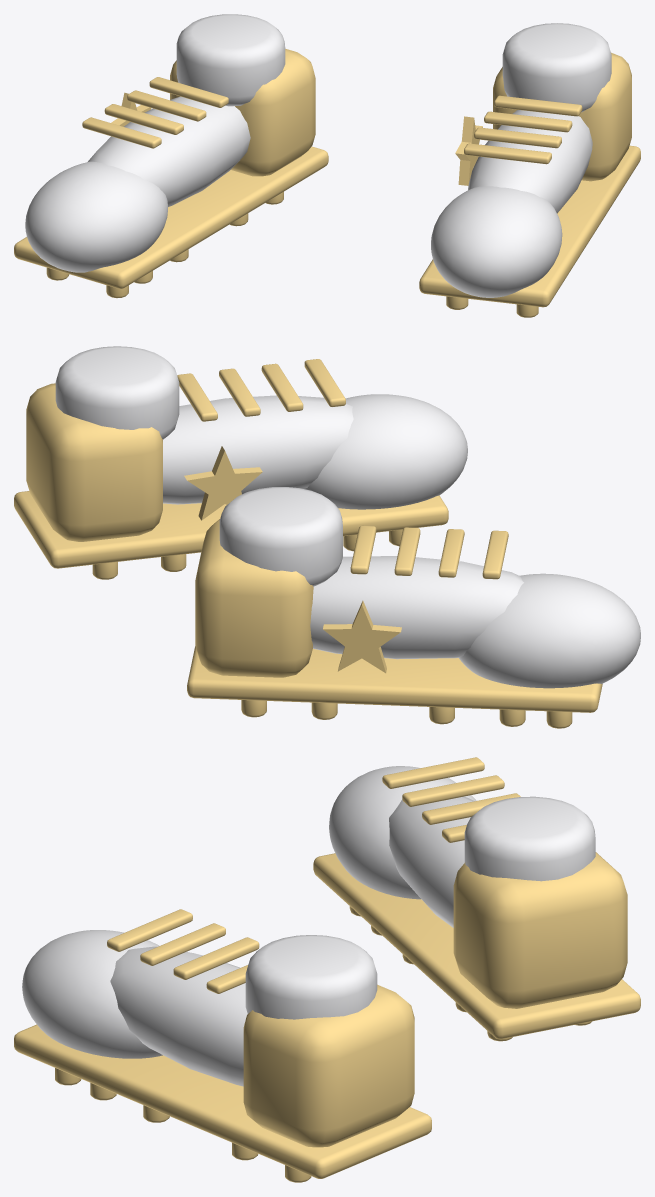
Rendered from reward-boots-signature.glb.
The picture shows the model from 3 angles, top to bottom: view 1: azimuth 30°, elevation 25°; view 2: azimuth 150°, elevation 25°; view 3: azimuth 270°, elevation 25°; orthographic projection. The views are drawn at different scales.
Visible parts, largest first — view 1: toe, toe.001, sole, upper, collar, collar.001, heel, sole.001, upper.001, heel.001, lace.005, lace.006 (+7 smaller); view 2: heel.001, toe, upper, sole, upper.001, heel, toe.001, collar, sole.001, collar.001, star, star.001 (+8 smaller); view 3: heel, heel.001, sole.001, sole, upper.001, toe.001, collar.001, collar, toe, upper, lace.003, lace.002 (+5 smaller).
Part boxes in pixels (x1,y1,x2,y2): toe: (25, 161, 167, 272); toe.001: (431, 186, 562, 297); sole: (14, 146, 328, 288); upper: (88, 96, 250, 206); collar: (176, 14, 285, 106); collar.001: (502, 23, 611, 112); heel: (170, 48, 315, 176); sole.001: (419, 145, 640, 307); upper.001: (468, 110, 592, 213); heel.001: (493, 52, 631, 181); lace.005: (484, 111, 572, 132); lace.006: (474, 127, 561, 148); heel.001: (26, 383, 162, 541); toe: (459, 573, 640, 688); upper: (310, 556, 523, 659); sole: (187, 646, 602, 712); upper.001: (163, 395, 353, 504); heel: (195, 519, 313, 677); toe.001: (304, 394, 467, 509); collar: (219, 487, 342, 586); sole.001: (14, 491, 448, 568); collar.001: (55, 346, 179, 439); star: (323, 600, 401, 673); star.001: (184, 446, 262, 520); heel: (453, 852, 627, 1008); heel.001: (243, 984, 414, 1147); sole.001: (14, 1024, 431, 1178); sole: (313, 853, 640, 1039); upper.001: (110, 946, 247, 1086); toe.001: (22, 930, 162, 1058); collar.001: (245, 935, 377, 1019); collar: (464, 796, 595, 881); toe: (329, 766, 476, 899); upper: (389, 796, 474, 927); lace.003: (382, 757, 484, 788); lace.002: (402, 775, 504, 806).
Size of the model in its own units: 3.68 by 1.02 by 2.89.
